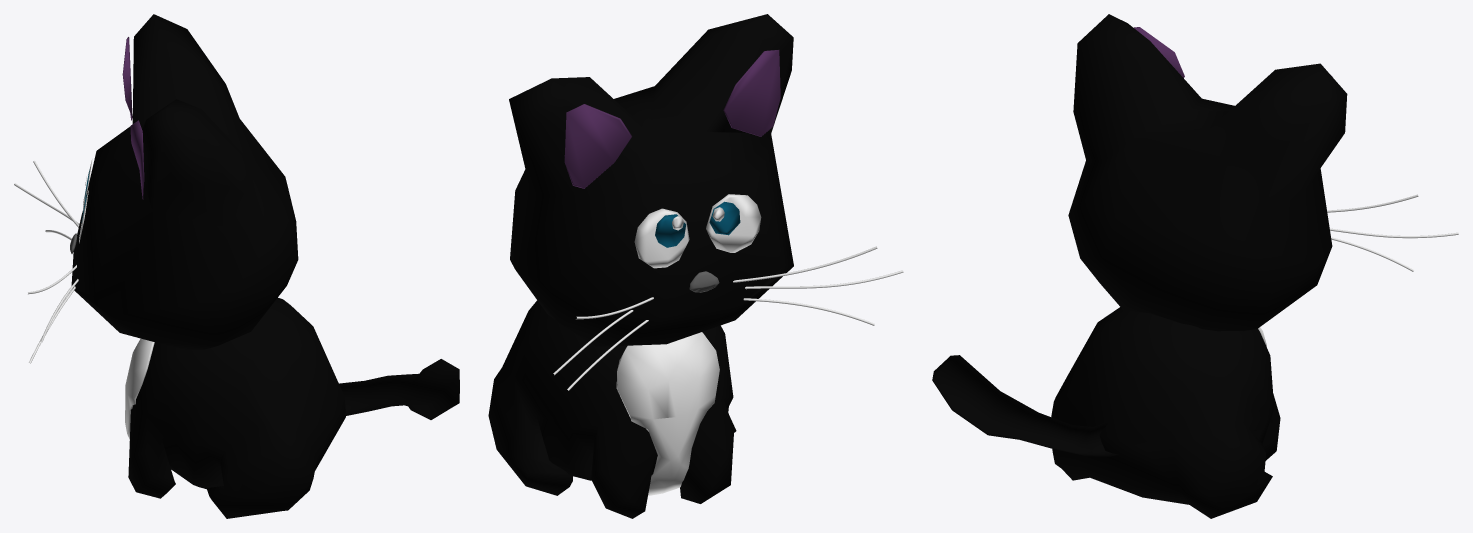
Rendered from gato.glb.
3 views of the same model, side by side, from view 1: azimuth 30°, elevation 25°; view 2: azimuth 150°, elevation 25°; view 3: azimuth 270°, elevation 25° (orthographic). The views are drawn at different scales.
Visible parts, largest first — view 1: Full_Catto; view 2: Full_Catto; view 3: Full_Catto.
Part boxes in pixels (x1=…): Full_Catto: x1=14, y1=14, x2=459, y2=518; Full_Catto: x1=488, y1=14, x2=903, y2=518; Full_Catto: x1=932, y1=14, x2=1458, y2=518.
Bounding box in the file's own units: 3.36 × 3.85 × 4.3.
